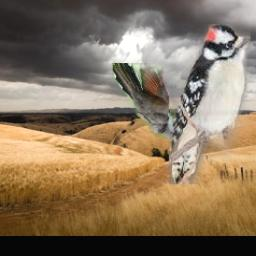Cuckoo: (113, 64, 185, 139)
Woodpecker: (169, 24, 251, 184)
